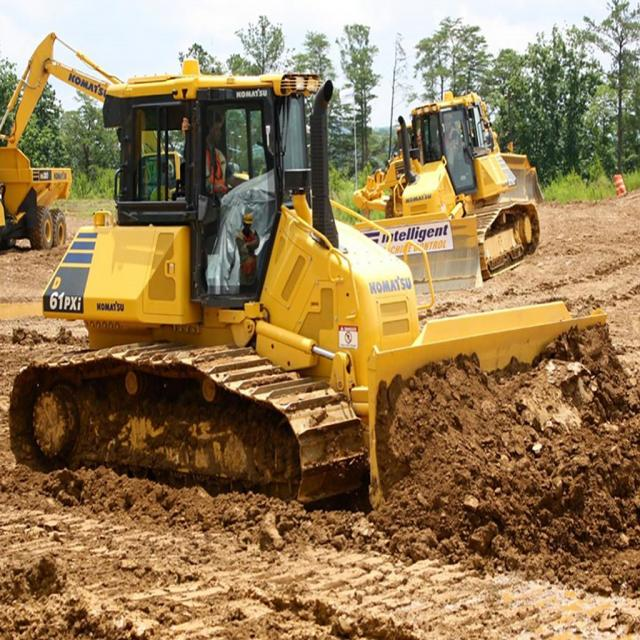Bulldozer: (14, 50, 633, 560)
